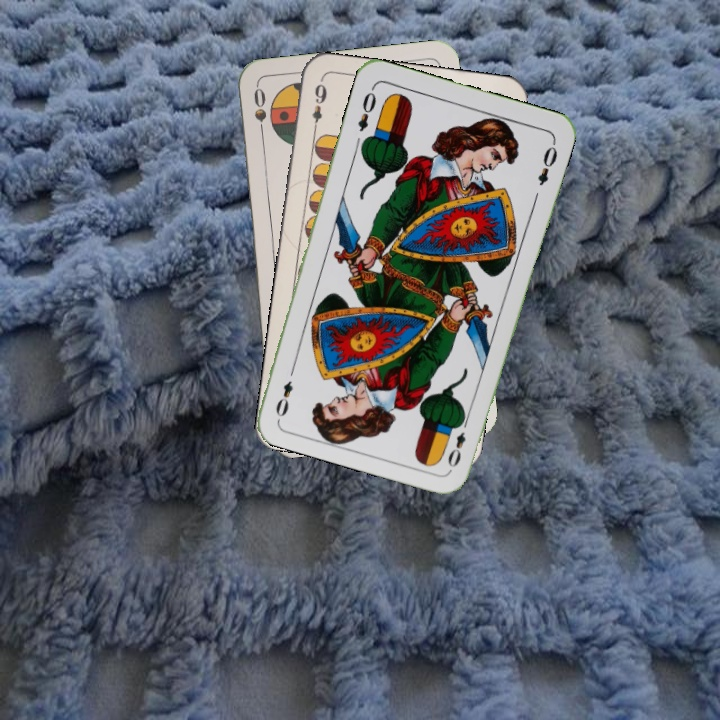E9: (308, 80, 329, 136)
EO: (443, 413, 472, 470), (353, 83, 379, 134)
SO: (249, 84, 269, 143)
